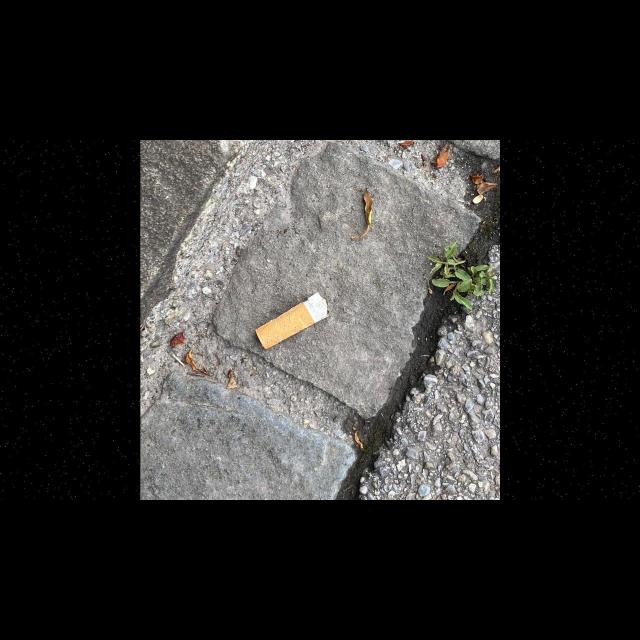cigarette: (254, 292, 330, 350)
